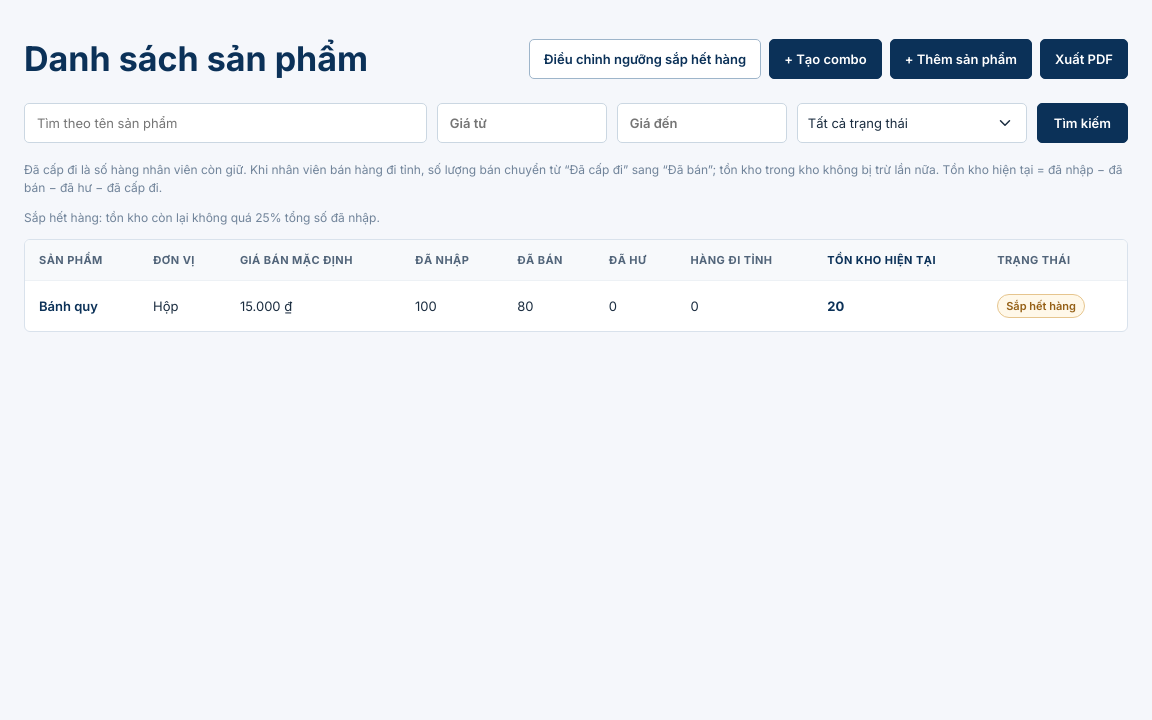
it: quản lý đổi ngưỡng và nhãn tồn kho cập nhật theo tỷ lệ đã lưu
Check: the text "Sắp hết hàng" is shown, box x1=997 y1=294 x2=1085 y2=318
Click the button "Điều chỉnh ngưỡng sắp hết hàng" at x=645, y=59, box x1=529 y1=39 x2=761 y2=79
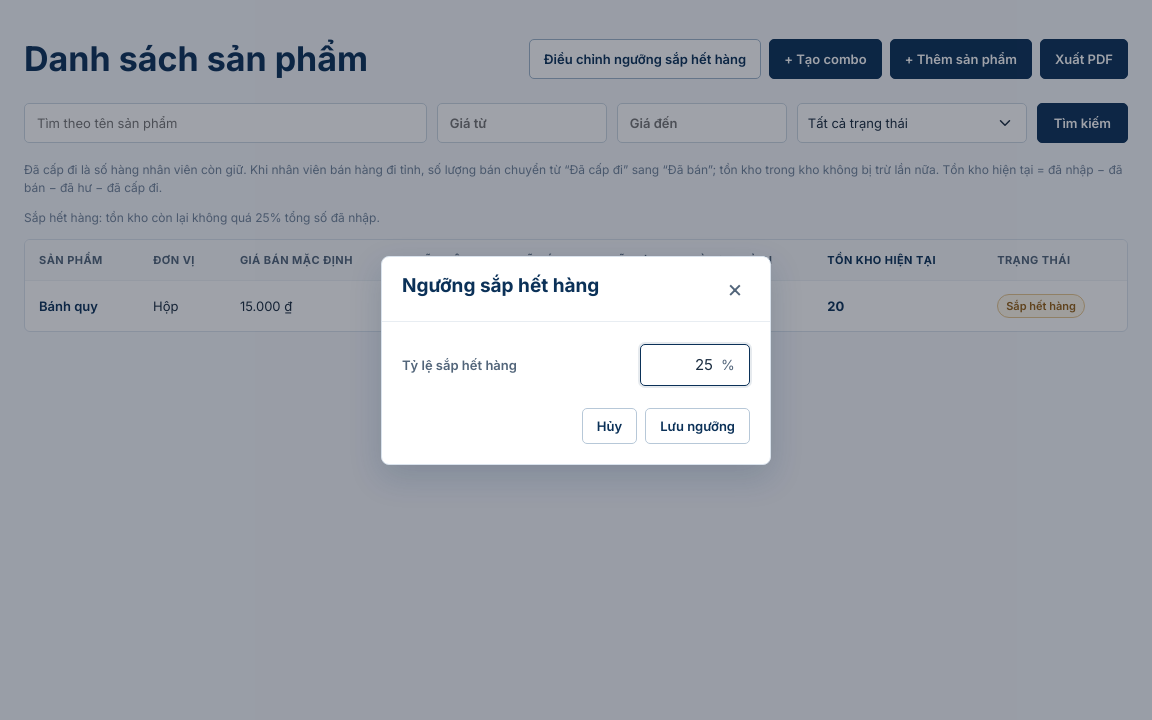
Replace the text in the number field labelled "Tỷ lệ sắp hết hàng" with "15" at x=679, y=364, box x1=641 y1=346 x2=717 y2=383
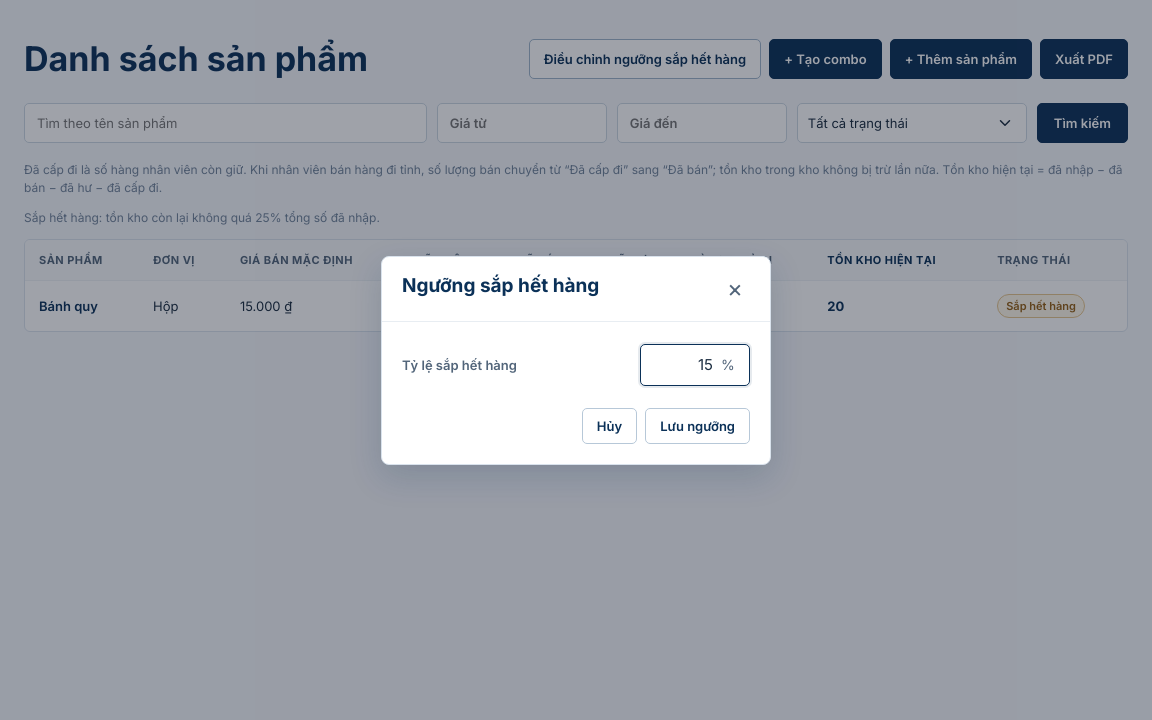
Click the button "Lưu ngưỡng" at x=698, y=426, box x1=645 y1=408 x2=750 y2=444
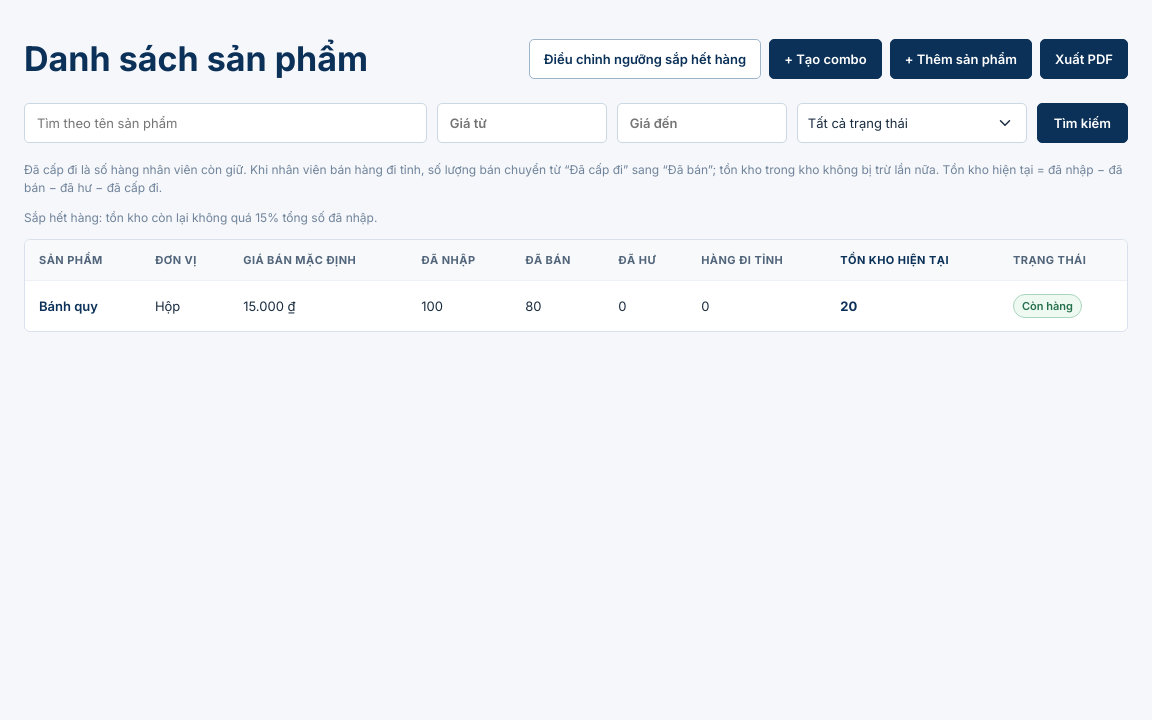
Check: the text "Còn hàng" is shown, box x1=1013 y1=294 x2=1082 y2=318
Check: the text "Sắp hết hàng: tồn kho còn lại không quá 15% tổng số đã nhập." is shown, box x1=24 y1=210 x2=377 y2=225
